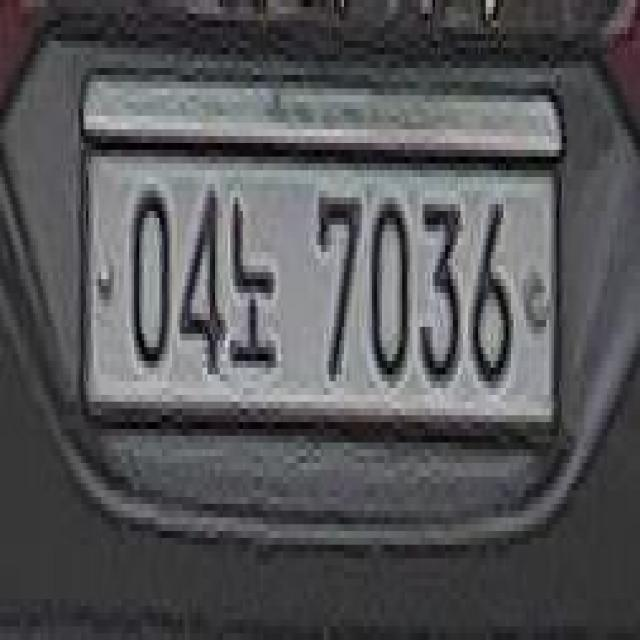illegal_plate: (85, 116, 561, 462)
